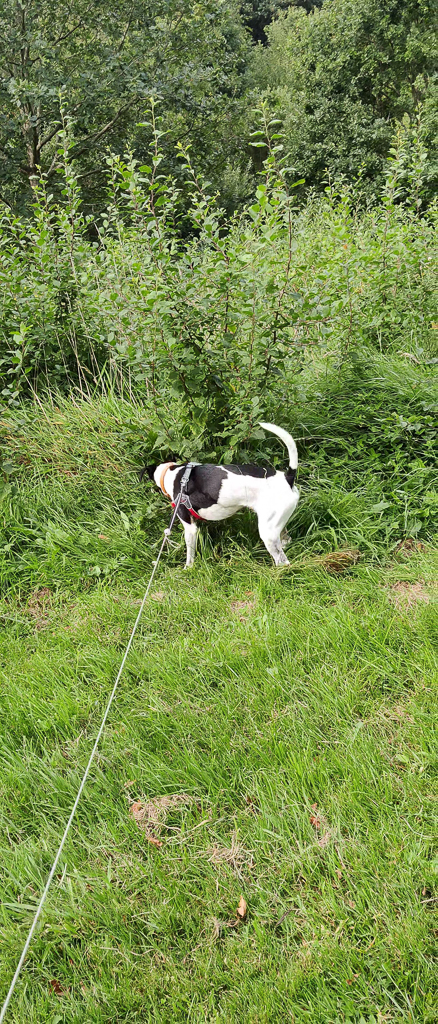Dog: (130, 417, 322, 580)
